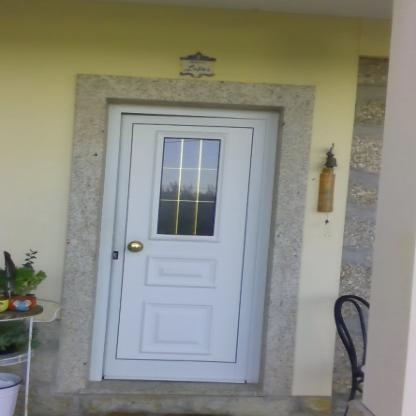door: (117, 112, 256, 386)
knob: (126, 239, 146, 256)
